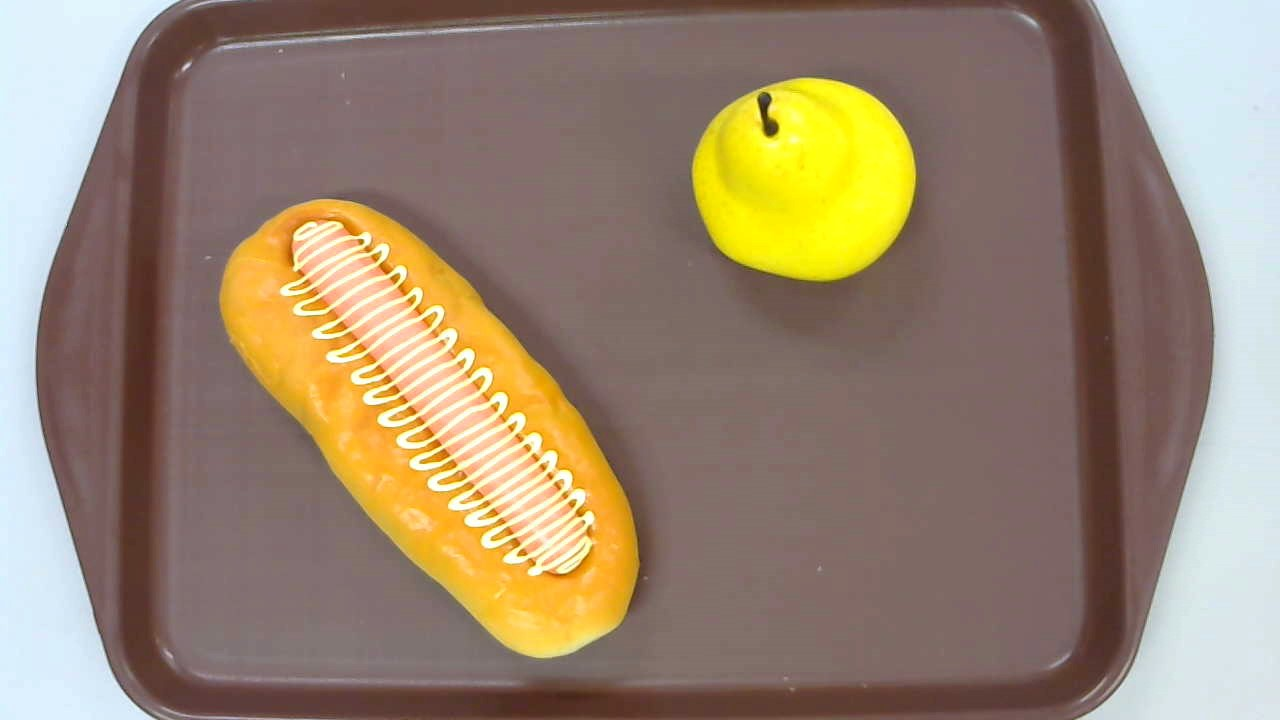hot dog: (217, 199, 641, 659)
yellow pear: (691, 77, 915, 281)
